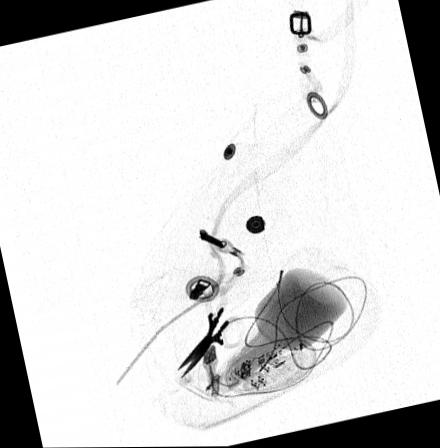Scissors: (170, 283, 246, 382)
